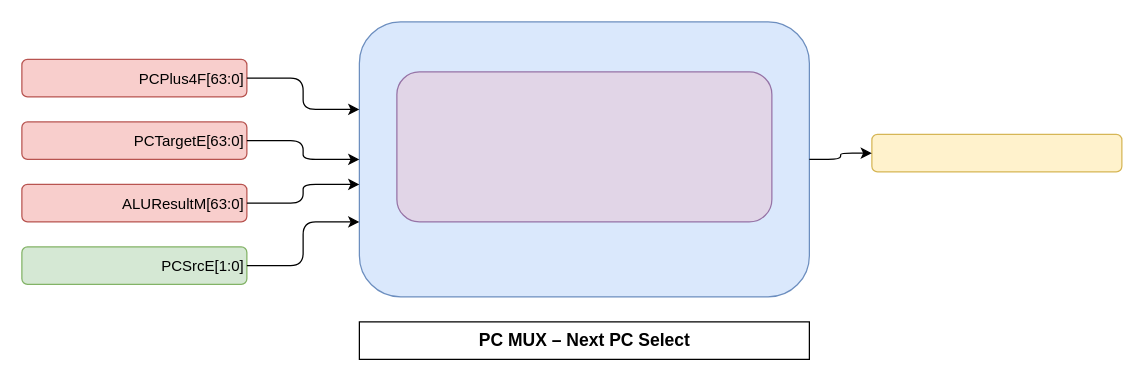
Image size: 1144x381. Some labels were removed from this diagram. Here are the shapes that lost their labels. From the top down, the centre of each, then its label:
At (584,146): "PCnext Selection Logic 00 : PC + 4 01 : PCTargetE 10/11 : ALUResultM".
At (996,152): "PCnext[63:0]".
